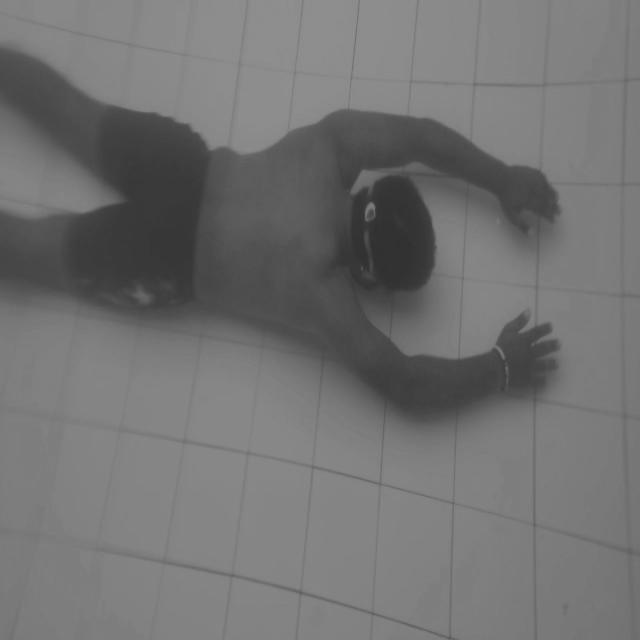drowning: (13, 25, 593, 439)
